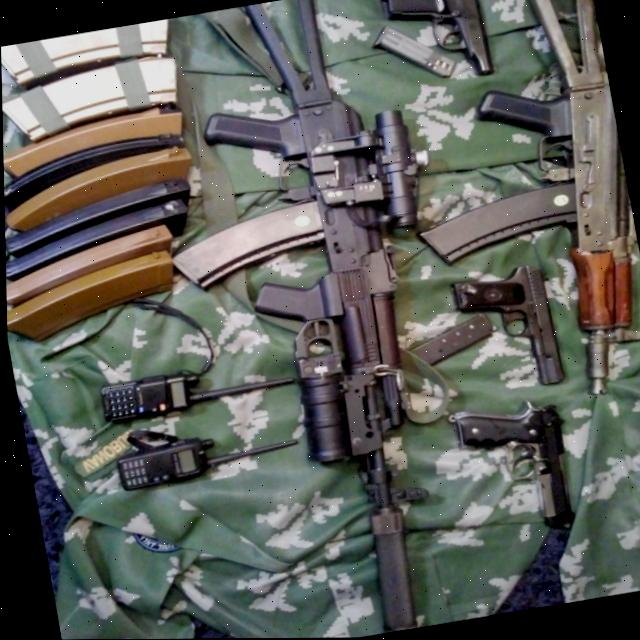firearm: (135, 0, 507, 639), (374, 0, 640, 418)
pistol: (446, 395, 580, 541), (447, 262, 566, 398), (380, 0, 495, 91)
